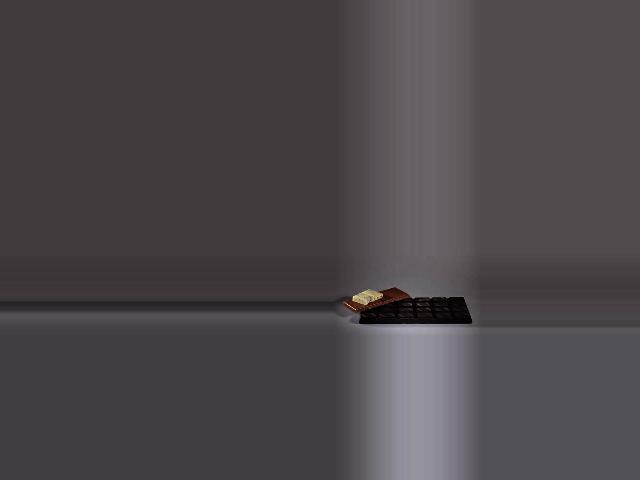chocolate: (352, 292, 472, 327)
